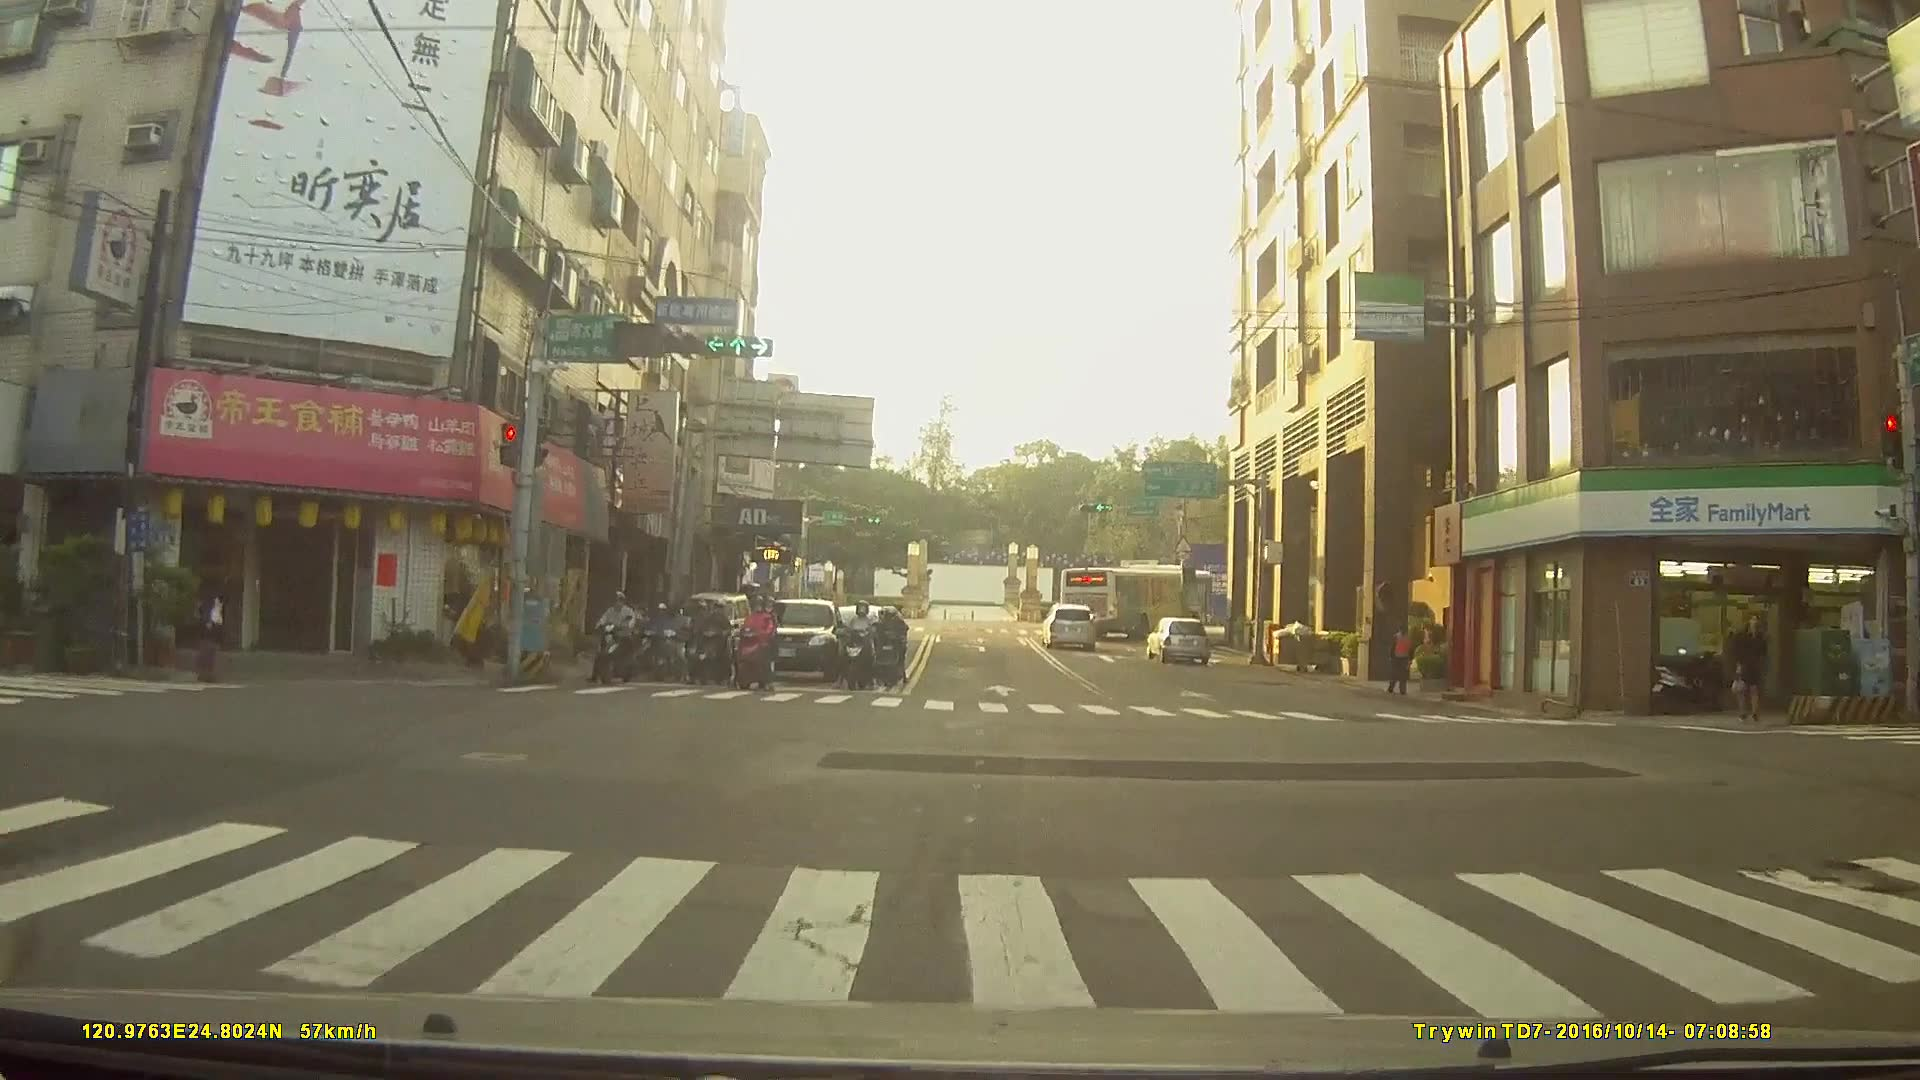pedestrian: (187, 573, 233, 691), (1732, 612, 1773, 724), (1384, 625, 1416, 696)
rider: (729, 587, 781, 692), (594, 586, 637, 684), (839, 598, 879, 690), (640, 601, 680, 682), (874, 607, 912, 689), (690, 601, 726, 685)
vehicle: (1055, 561, 1212, 635), (745, 594, 843, 681), (1144, 615, 1213, 663), (1040, 601, 1098, 651)
